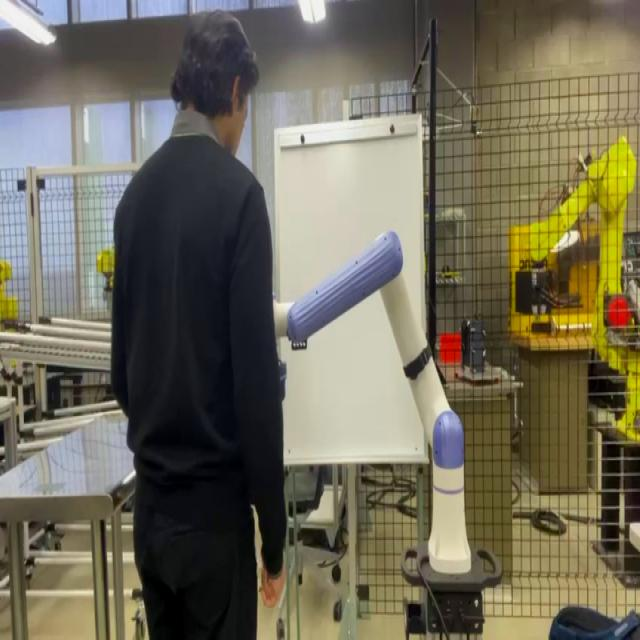robot: (266, 212, 479, 586)
